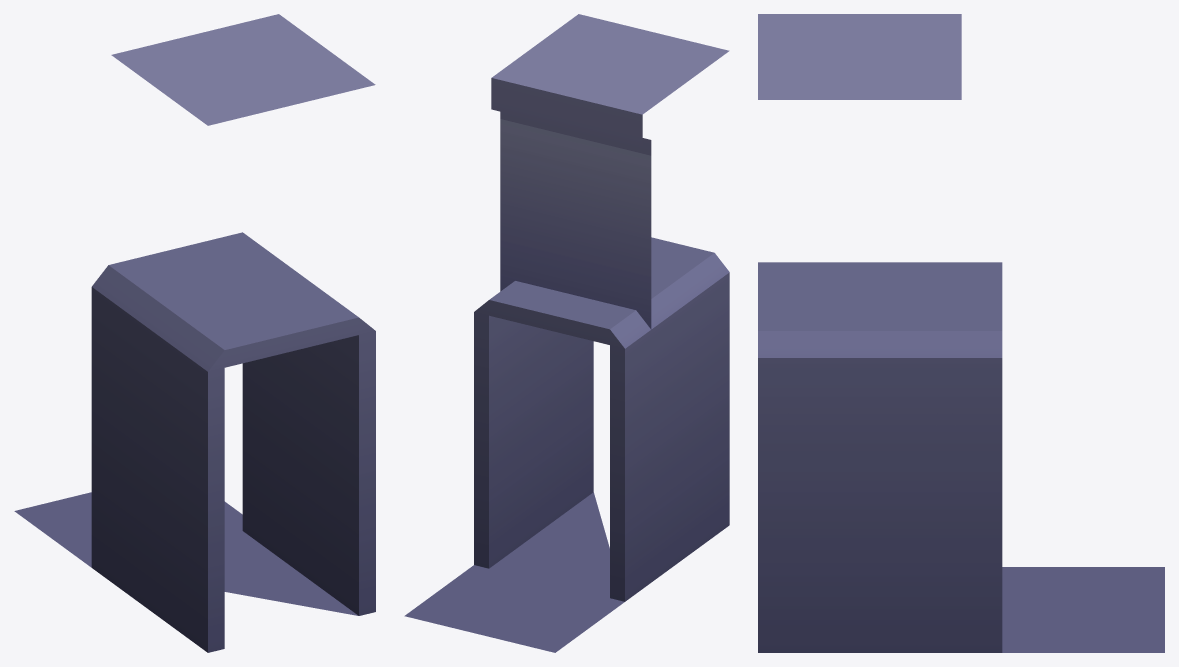
Rendered from kenney-conveyor-structure-doorway.glb.
The picture shows the model from 3 angles, left to right: view 1: azimuth 30°, elevation 25°; view 2: azimuth 150°, elevation 25°; view 3: azimuth 270°, elevation 25°; orthographic projection. The views are drawn at different scales.
Parts seen in each view (by area): view 1: structure-doorway; view 2: structure-doorway; view 3: structure-doorway.
Part boxes in pixels (box(x1,y1,x2,y2)): structure-doorway: box(14, 14, 375, 652); structure-doorway: box(404, 14, 729, 652); structure-doorway: box(758, 14, 1164, 652).
Bounding box in the file's own units: 0.9999 × 3 × 2.
1 material, 1 textured.
